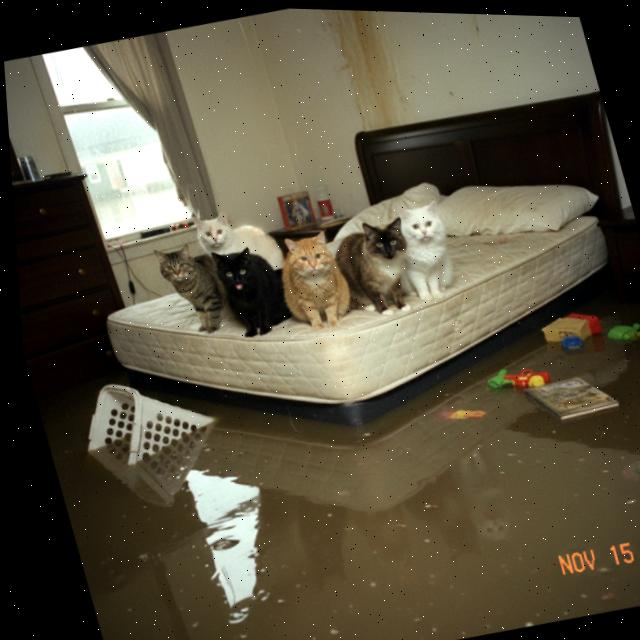cat: (263, 221, 367, 341), (324, 209, 432, 322), (199, 233, 300, 344), (183, 196, 293, 294), (378, 197, 471, 308), (150, 232, 241, 343)
